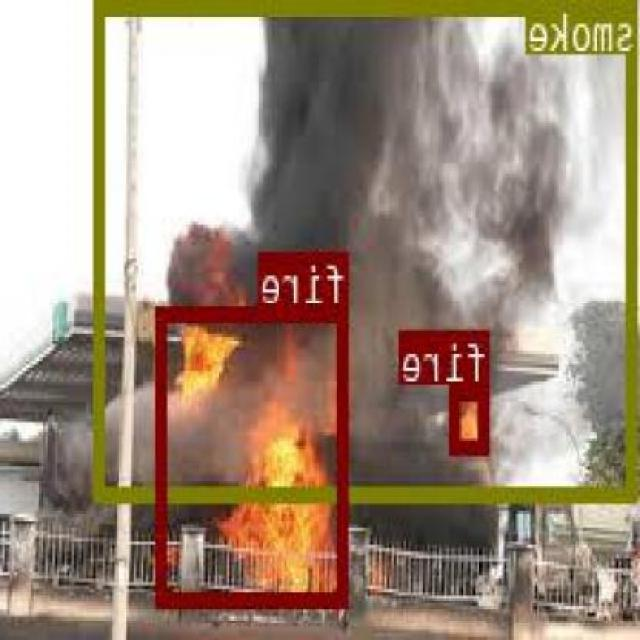Fire: (159, 306, 350, 606)
Smoke: (96, 0, 639, 497), (453, 382, 492, 451)
